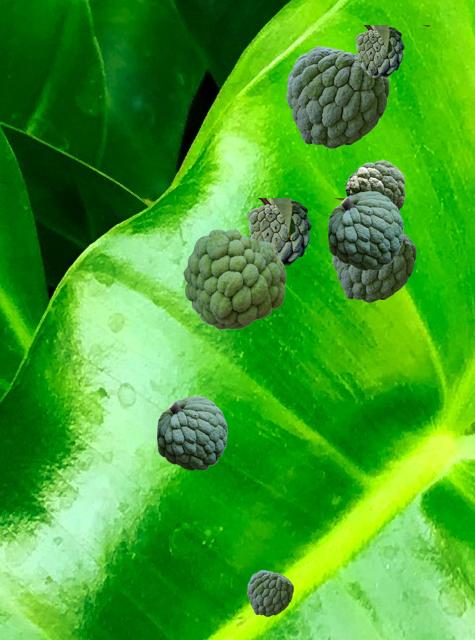atis: (286, 46, 388, 147), (183, 229, 285, 328), (247, 198, 343, 266), (328, 191, 402, 269), (332, 232, 415, 301), (157, 396, 226, 469), (355, 25, 429, 77), (345, 160, 404, 210), (247, 570, 292, 615)
